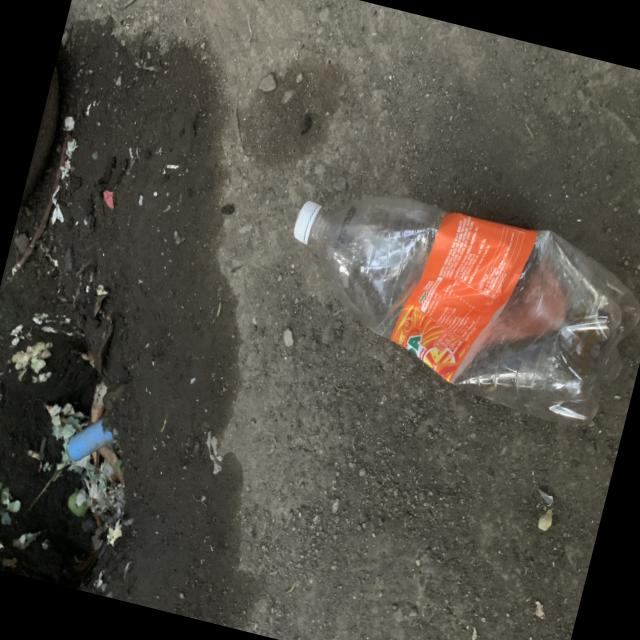Bottle: (293, 196, 639, 422)
